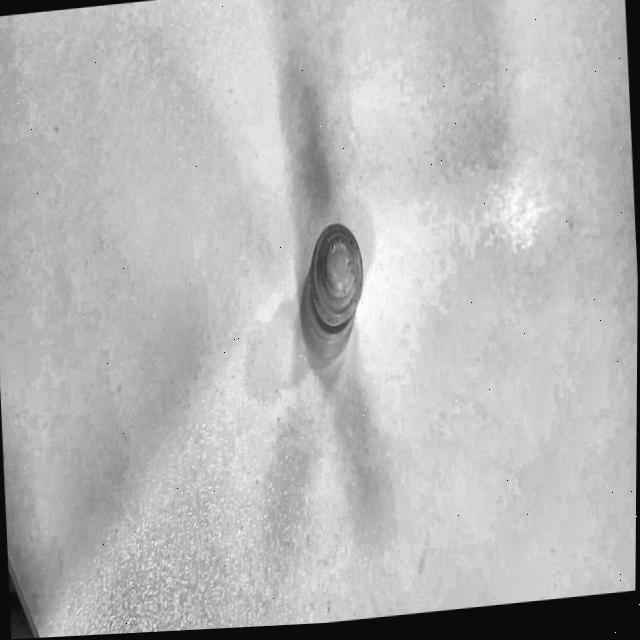white-queen: (273, 176, 422, 445)
